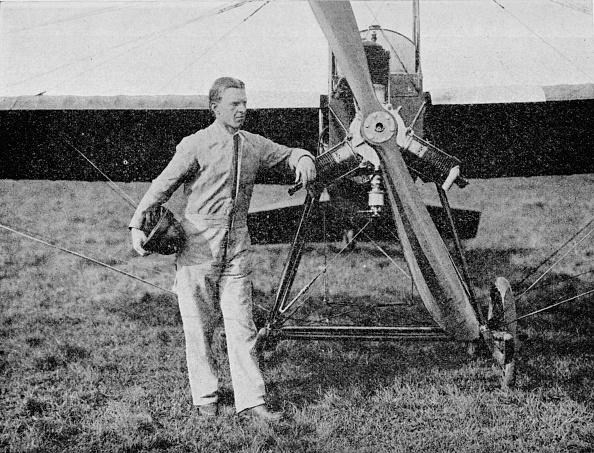em pe: (132, 67, 326, 397)
